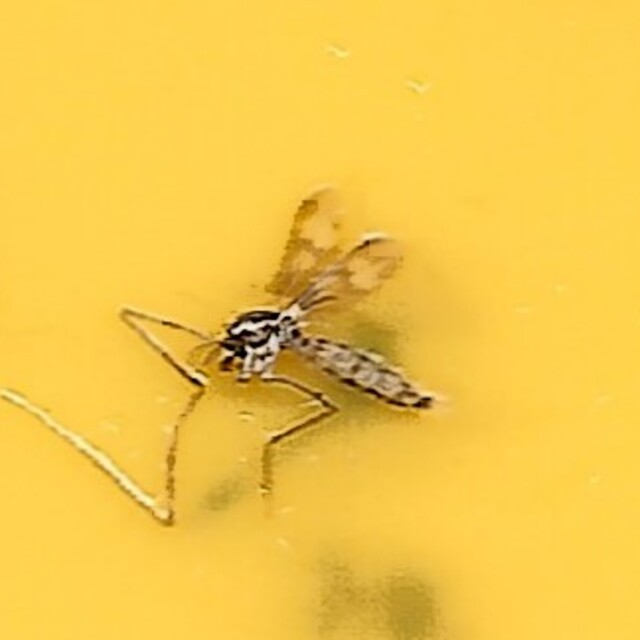Nematocera: (198, 182, 442, 458)
